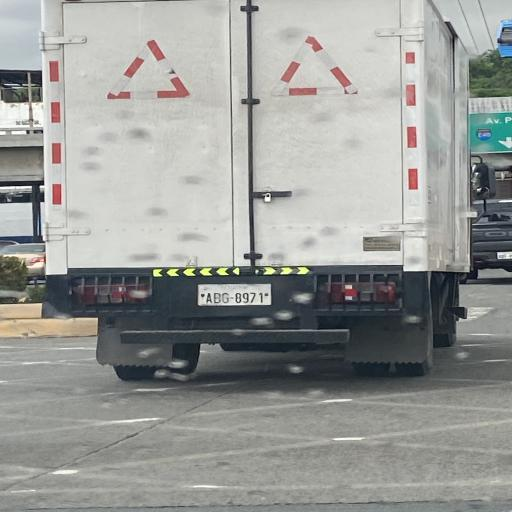license_plate: (222, 291, 229, 305), (206, 292, 213, 305), (213, 293, 221, 304), (242, 292, 249, 304), (258, 291, 264, 304), (235, 293, 242, 304), (250, 292, 256, 303)
